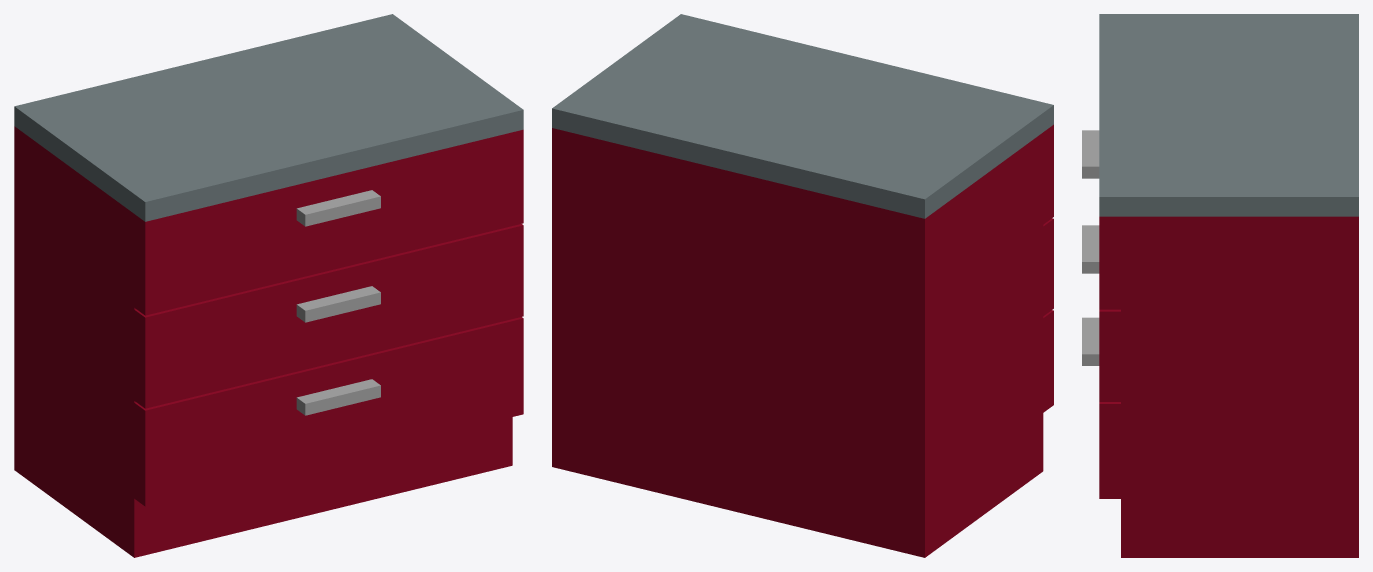
File: Cabinet_4_Large.fbx
3 views of the same model, side by side, from view 1: azimuth 30°, elevation 25°; view 2: azimuth 150°, elevation 25°; view 3: azimuth 270°, elevation 25° (orthographic).
Visible parts, largest first — view 1: cabinet-kitchen-large; view 2: cabinet-kitchen-large; view 3: cabinet-kitchen-large.
Boxes of the visible parts, x1,y1,x2,y2 form: cabinet-kitchen-large: (14,14,523,557); cabinet-kitchen-large: (552,14,1053,557); cabinet-kitchen-large: (1082,14,1358,557).
Size of the model in its own units: 100 by 92 by 64.
